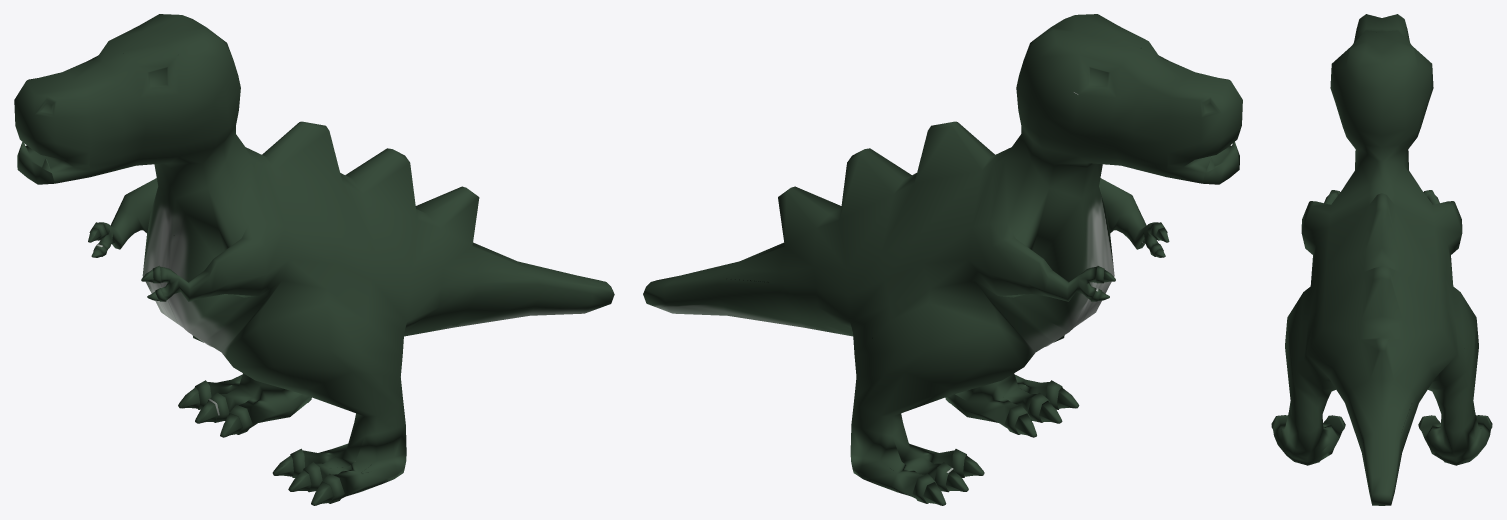
The model's file is Dargon_1.fbx.
The picture shows the model from 3 angles, left to right: view 1: azimuth 30°, elevation 25°; view 2: azimuth 150°, elevation 25°; view 3: azimuth 270°, elevation 25°; orthographic projection. The views are drawn at different scales.
Visible parts, largest first — view 1: Cylinder; view 2: Cylinder; view 3: Cylinder.
Boxes of the visible parts, left/top/right/bottom form: Cylinder: left=14, top=14, right=614, bottom=505; Cylinder: left=643, top=14, right=1242, bottom=505; Cylinder: left=1271, top=14, right=1492, bottom=505.
Bounding box in the file's own units: 325 × 239 × 135.
